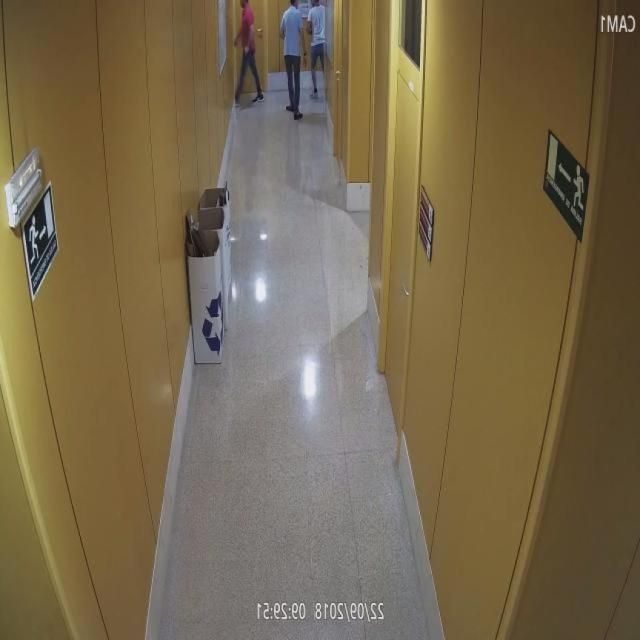pistol: (241, 44, 251, 60)
